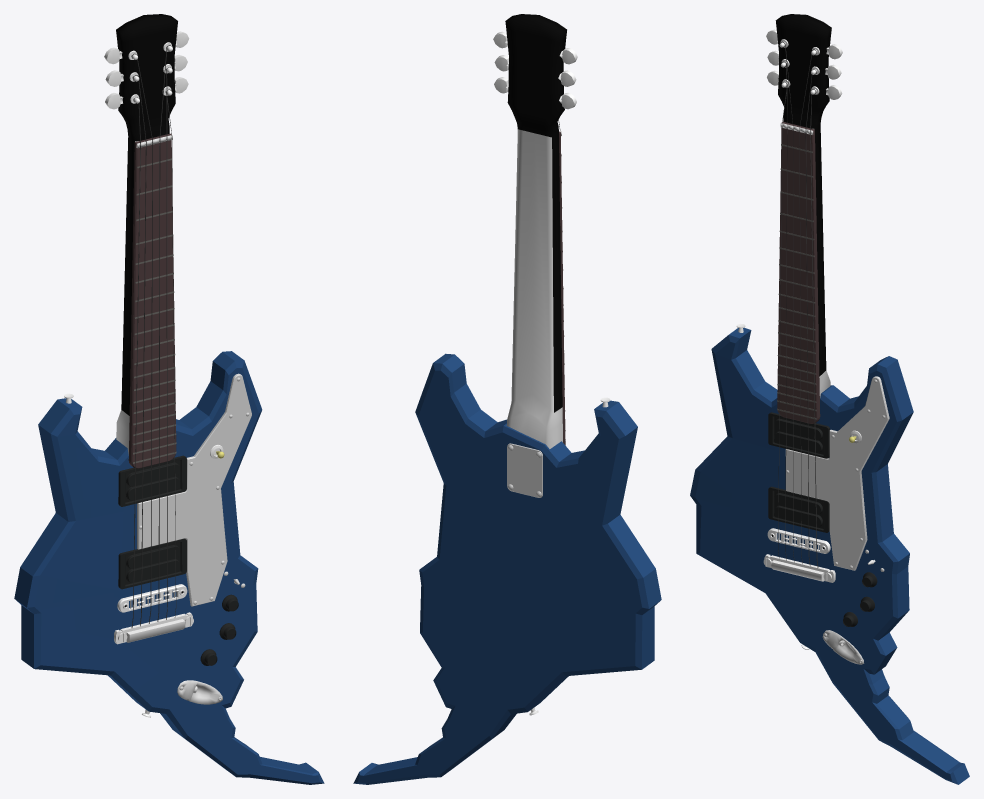
File: guitar.glb
The picture shows the model from 3 angles, left to right: view 1: azimuth 30°, elevation 25°; view 2: azimuth 150°, elevation 25°; view 3: azimuth 330°, elevation 25°; orthographic projection. The views are drawn at different scales.
Parts seen in each view (by area): view 1: Vert.004, Plane.040, Plane.034, Plane.033, NurbsPath.012, Plane.041, Plane.042, Plane.036, Plane.035, Plane.037, Circle.031, Plane.043; view 2: Vert.004, Plane.033, Plane.039, Plane.035, Plane.040; view 3: Vert.004, Plane.040, Plane.034, Plane.033, NurbsPath.012, Plane.041, Plane.042, Plane.036, Plane.035, Plane.037, Circle.031, Plane.043.
Boxes of the visible parts, x1,y1,x2,y2 form: Vert.004: (14,351,324,784); Plane.040: (128,133,176,468); Plane.034: (137,373,251,606); Plane.033: (116,14,177,455); NurbsPath.012: (131,45,176,627); Plane.041: (118,538,186,589); Plane.042: (118,455,186,506); Plane.036: (132,158,176,463); Plane.035: (104,31,189,109); Plane.037: (114,612,192,644); Circle.031: (117,584,187,612); Plane.043: (177,680,222,704); Vert.004: (353,353,661,784); Plane.033: (505,14,566,448); Plane.039: (507,443,542,497); Plane.035: (493,31,577,109); Plane.040: (559,131,565,445); Vert.004: (690,327,969,784); Plane.040: (777,122,820,423); Plane.034: (785,376,889,570); Plane.033: (775,14,831,397); NurbsPath.012: (778,41,818,567); Plane.041: (768,486,829,532); Plane.042: (768,412,829,458); Plane.036: (777,144,816,419); Plane.035: (766,29,842,99); Plane.037: (764,554,835,582); Circle.031: (767,528,830,553); Plane.043: (822,630,864,664).
Bounding box in the file's own units: 2.9 × 7.5 × 0.4022.
